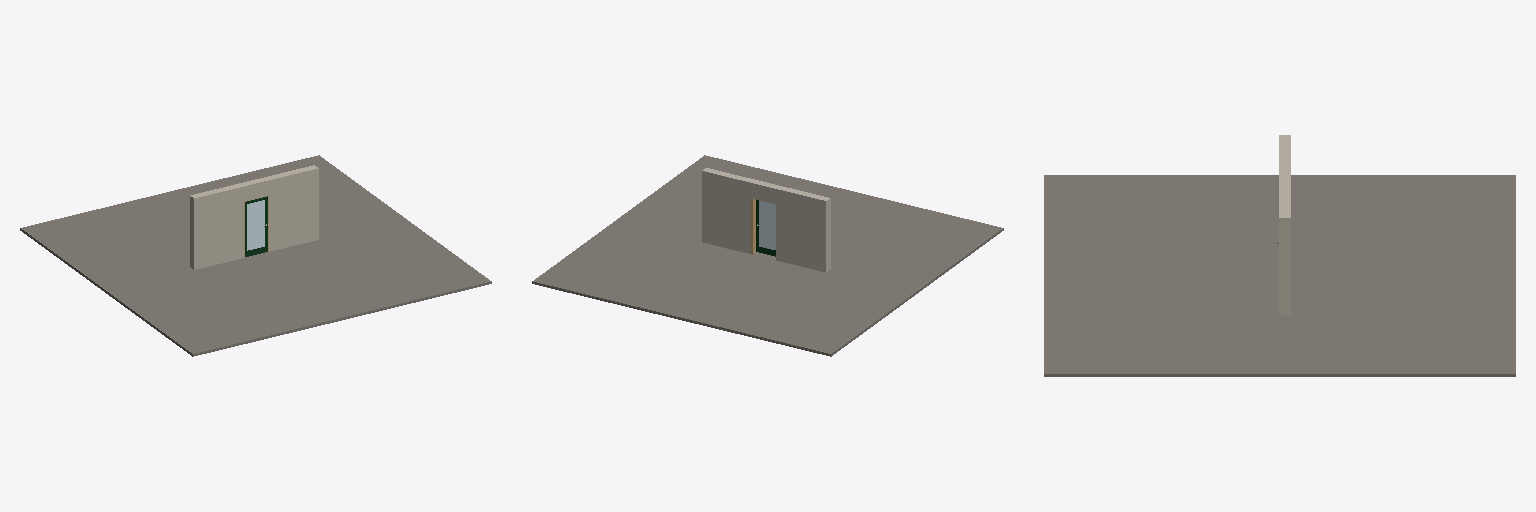
The robot description file, URDF, robot "db0233_swing_single_minimal":
<?xml version="1.0" ?>
<robot xmlns:doorbench="https://github.com/adamraudonis/DoorBench/schema/urdf-ext" name="db0233_swing_single_minimal">
  <link name="world_env">
    <visual name="floor_vis">
      <origin xyz="0 0 -0.05" rpy="0 0 0"/>
      <geometry>
        <box size="12 12 0.1"/>
      </geometry>
      <material name="mat_floor"/>
    </visual>
    <collision name="floor_col">
      <origin xyz="0 0 -0.05" rpy="0 0 0"/>
      <geometry>
        <box size="12 12 0.1"/>
      </geometry>
    </collision>
    <visual name="wall_left_vis">
      <origin xyz="-1.48975 0.121 1.3735" rpy="0 0 0"/>
      <geometry>
        <box size="2.0205 0.3 2.747"/>
      </geometry>
      <material name="mat_wall"/>
    </visual>
    <collision name="wall_left_col">
      <origin xyz="-1.48975 0.121 1.3735" rpy="0 0 0"/>
      <geometry>
        <box size="2.0205 0.3 2.747"/>
      </geometry>
    </collision>
    <visual name="wall_right_vis">
      <origin xyz="1.50475 0.121 1.3735" rpy="0 0 0"/>
      <geometry>
        <box size="1.9905 0.3 2.747"/>
      </geometry>
      <material name="mat_wall"/>
    </visual>
    <collision name="wall_right_col">
      <origin xyz="1.50475 0.121 1.3735" rpy="0 0 0"/>
      <geometry>
        <box size="1.9905 0.3 2.747"/>
      </geometry>
    </collision>
    <visual name="wall_header_vis">
      <origin xyz="0.015 0.121 2.4715" rpy="0 0 0"/>
      <geometry>
        <box size="0.989 0.3 0.551"/>
      </geometry>
      <material name="mat_wall"/>
    </visual>
    <collision name="wall_header_col">
      <origin xyz="0.015 0.121 2.4715" rpy="0 0 0"/>
      <geometry>
        <box size="0.989 0.3 0.551"/>
      </geometry>
    </collision>
    <visual name="jamb_hinge_vis">
      <origin xyz="-0.47 0.121 1.0735" rpy="0 0 0"/>
      <geometry>
        <box size="0.019 0.3 2.147"/>
      </geometry>
      <material name="mat_frame"/>
    </visual>
    <collision name="jamb_hinge_col">
      <origin xyz="-0.47 0.121 1.0735" rpy="0 0 0"/>
      <geometry>
        <box size="0.019 0.3 2.147"/>
      </geometry>
    </collision>
    <visual name="strike_1050_wall_n_vis">
      <origin xyz="0.485 0.139425 1.05" rpy="0 0 0"/>
      <geometry>
        <box size="0.049 0.26315 0.0334"/>
      </geometry>
      <material name="mat_frame"/>
    </visual>
    <collision name="strike_1050_wall_n_col">
      <origin xyz="0.485 0.139425 1.05" rpy="0 0 0"/>
      <geometry>
        <box size="0.049 0.26315 0.0334"/>
      </geometry>
    </collision>
    <visual name="strike_1050_wall_p_vis">
      <origin xyz="0.485 -0.01585 1.05" rpy="0 0 0"/>
      <geometry>
        <box size="0.049 0.016 0.0334"/>
      </geometry>
      <material name="mat_frame"/>
    </visual>
    <collision name="strike_1050_wall_p_col">
      <origin xyz="0.485 -0.01585 1.05" rpy="0 0 0"/>
      <geometry>
        <box size="0.049 0.016 0.0334"/>
      </geometry>
    </collision>
    <visual name="strike_1050_ramp_vis">
      <origin xyz="0.489636 -0.028673 1.05" rpy="0 0 0.428384"/>
      <geometry>
        <box size="0.049 0.03298 0.0334"/>
      </geometry>
      <material name="mat_frame"/>
    </visual>
    <collision name="strike_1050_ramp_col">
      <origin xyz="0.489636 -0.028673 1.05" rpy="0 0 0.428384"/>
      <geometry>
        <box size="0.049 0.03298 0.0334"/>
      </geometry>
    </collision>
    <visual name="strike_1050_back_vis">
      <origin xyz="0.49335 0 1.05" rpy="0 0 0"/>
      <geometry>
        <box size="0.0323 0.0157 0.0334"/>
      </geometry>
      <material name="mat_frame"/>
    </visual>
    <collision name="strike_1050_back_col">
      <origin xyz="0.49335 0 1.05" rpy="0 0 0"/>
      <geometry>
        <box size="0.0323 0.0157 0.0334"/>
      </geometry>
    </collision>
    <visual name="jamb_strike_0_vis">
      <origin xyz="0.485 0.121 0.51665" rpy="0 0 0"/>
      <geometry>
        <box size="0.049 0.3 1.0333"/>
      </geometry>
      <material name="mat_frame"/>
    </visual>
    <collision name="jamb_strike_0_col">
      <origin xyz="0.485 0.121 0.51665" rpy="0 0 0"/>
      <geometry>
        <box size="0.049 0.3 1.0333"/>
      </geometry>
    </collision>
    <visual name="jamb_strike_1_vis">
      <origin xyz="0.485 0.121 1.60685" rpy="0 0 0"/>
      <geometry>
        <box size="0.049 0.3 1.0803"/>
      </geometry>
      <material name="mat_frame"/>
    </visual>
    <collision name="jamb_strike_1_col">
      <origin xyz="0.485 0.121 1.60685" rpy="0 0 0"/>
      <geometry>
        <box size="0.049 0.3 1.0803"/>
      </geometry>
    </collision>
    <visual name="jamb_head_vis">
      <origin xyz="0.015 0.121 2.1565" rpy="0 0 0"/>
      <geometry>
        <box size="0.989 0.3 0.019"/>
      </geometry>
      <material name="mat_frame"/>
    </visual>
    <collision name="jamb_head_col">
      <origin xyz="0.015 0.121 2.1565" rpy="0 0 0"/>
      <geometry>
        <box size="0.989 0.3 0.019"/>
      </geometry>
    </collision>
    <visual name="head_stud_vis">
      <origin xyz="0.015 0.121 2.181" rpy="0 0 0"/>
      <geometry>
        <box size="0.989 0.3 0.03"/>
      </geometry>
      <material name="mat_wall"/>
    </visual>
    <collision name="head_stud_col">
      <origin xyz="0.015 0.121 2.181" rpy="0 0 0"/>
      <geometry>
        <box size="0.989 0.3 0.03"/>
      </geometry>
    </collision>
    <visual name="stop_hinge_vis">
      <origin xyz="-0.455 0.0385 1.0735" rpy="0 0 0"/>
      <geometry>
        <box size="0.011 0.032 2.147"/>
      </geometry>
      <material name="mat_frame"/>
    </visual>
    <collision name="stop_hinge_col">
      <origin xyz="-0.455 0.0385 1.0735" rpy="0 0 0"/>
      <geometry>
        <box size="0.011 0.032 2.147"/>
      </geometry>
    </collision>
    <visual name="stop_strike_vis">
      <origin xyz="0.455 0.0385 1.0735" rpy="0 0 0"/>
      <geometry>
        <box size="0.011 0.032 2.147"/>
      </geometry>
      <material name="mat_frame"/>
    </visual>
    <collision name="stop_strike_col">
      <origin xyz="0.455 0.0385 1.0735" rpy="0 0 0"/>
      <geometry>
        <box size="0.011 0.032 2.147"/>
      </geometry>
    </collision>
    <visual name="stop_head_vis">
      <origin xyz="0 0.0385 2.1415" rpy="0 0 0"/>
      <geometry>
        <box size="0.921 0.032 0.011"/>
      </geometry>
      <material name="mat_frame"/>
    </visual>
    <collision name="stop_head_col">
      <origin xyz="0 0.0385 2.1415" rpy="0 0 0"/>
      <geometry>
        <box size="0.921 0.032 0.011"/>
      </geometry>
    </collision>
  </link>
  <link name="leaf">
    <inertial>
      <origin xyz="0.457 0.029 1.07642" rpy="0 0 0"/>
      <mass value="30.552097"/>
      <inertia ixx="11.577780386" ixy="0" ixz="0" iyy="13.694314073" iyz="0" izz="2.126396616"/>
    </inertial>
    <visual name="leaf_slab_vis">
      <origin xyz="0.457 0.029 1.076" rpy="0 0 0"/>
      <geometry>
        <box size="0.914 0.044 2.134"/>
      </geometry>
      <material name="mat_leaf"/>
    </visual>
    <collision name="leaf_slab_col">
      <origin xyz="0.457 0.029 1.076" rpy="0 0 0"/>
      <geometry>
        <box size="0.914 0.044 2.134"/>
      </geometry>
    </collision>
    <visual name="leaf_glass_0_vis">
      <origin xyz="0.457 0.029 1.14002" rpy="0 0 0"/>
      <geometry>
        <box size="0.71292 0.0456 1.79256"/>
      </geometry>
      <material name="mat_glass"/>
    </visual>
  </link>
  <link name="leaf_handle">
    <inertial>
      <origin xyz="-0.025007 -0.057273 0" rpy="0 0 0"/>
      <mass value="0.41"/>
      <inertia ixx="0.000274641" ixy="-0.000228434" ixz="0" iyy="0.00059942" iyz="0" izz="0.000791484"/>
    </inertial>
    <visual name="leaf_handle_lever_n_vis">
      <origin xyz="0 -0.022 0" rpy="1.570796 0 0"/>
      <geometry>
        <mesh filename="../../hardware/lever_a61139b160.obj"/>
      </geometry>
      <material name="mat_op_nickel_satin"/>
    </visual>
    <collision name="leaf_handle_lever_col_n_col">
      <origin xyz="-0.056 -0.077 0" rpy="0 -1.570796 0"/>
      <geometry>
        <cylinder radius="0.008" length="0.096"/>
      </geometry>
    </collision>
    <collision name="leaf_handle_hub_col_n_col">
      <origin xyz="0 -0.052 0" rpy="-1.570796 0 0"/>
      <geometry>
        <cylinder radius="0.012" length="0.044"/>
      </geometry>
    </collision>
  </link>
  <link name="leaf_handle_out">
    <inertial>
      <origin xyz="-0.025007 0.057273 0" rpy="0 0 0"/>
      <mass value="0.41"/>
      <inertia ixx="0.000274641" ixy="0.000228434" ixz="0" iyy="0.00059942" iyz="0" izz="0.000791484"/>
    </inertial>
    <visual name="leaf_handle_out_lever_p_vis">
      <origin xyz="0 0.022 0" rpy="-1.570796 0 0"/>
      <geometry>
        <mesh filename="../../hardware/lever_a61139b160.obj"/>
      </geometry>
      <material name="mat_op_nickel_satin"/>
    </visual>
    <collision name="leaf_handle_out_lever_col_p_col">
      <origin xyz="-0.056 0.077 0" rpy="0 -1.570796 0"/>
      <geometry>
        <cylinder radius="0.008" length="0.096"/>
      </geometry>
    </collision>
    <collision name="leaf_handle_out_hub_col_p_col">
      <origin xyz="0 0.052 0" rpy="-1.570796 0 0"/>
      <geometry>
        <cylinder radius="0.012" length="0.044"/>
      </geometry>
    </collision>
  </link>
  <link name="leaf_latch_bolt">
    <inertial>
      <origin xyz="-0.00865 0 0" rpy="0 0 0"/>
      <mass value="0.041419"/>
      <inertia ixx="0.000000798" ixy="0" ixz="0" iyy="0.000005598" iyz="0" izz="0.000005598"/>
    </inertial>
    <visual name="leaf_latch_bolt_capsule_vis">
      <origin xyz="-0.00865 0 0" rpy="0 1.570796 0"/>
      <geometry>
        <cylinder radius="0.00635" length="0.03"/>
      </geometry>
      <material name="mat_bolt"/>
    </visual>
    <collision name="leaf_latch_bolt_capsule_col">
      <origin xyz="-0.00865 0 0" rpy="0 1.570796 0"/>
      <geometry>
        <cylinder radius="0.00635" length="0.03"/>
      </geometry>
    </collision>
  </link>
  <joint name="leaf_hinge" type="revolute">
    <origin xyz="-0.4575 -0.029 0" rpy="0 0 0"/>
    <parent link="world_env"/>
    <child link="leaf"/>
    <axis xyz="0 0 -1"/>
    <limit lower="0" upper="1.570796" effort="2000" velocity="10"/>
    <dynamics damping="0.318966" friction="1.73044"/>
    <doorbench:closer damping_closing="0" damping_opening="0" backcheck_angle="0" backcheck_damping="0"/>
  </joint>
  <joint name="leaf_handle_hinge" type="revolute">
    <origin xyz="0.844 0.029 1.05" rpy="0 0 0"/>
    <parent link="leaf"/>
    <child link="leaf_handle"/>
    <axis xyz="0 -1 0"/>
    <limit lower="0" upper="0.87" effort="2000" velocity="10"/>
    <dynamics damping="0.208392" friction="0.052"/>
    <doorbench:spring stiffness="1" springref="-0.35" note="tau = -stiffness*(q - springref); not native URDF"/>
  </joint>
  <joint name="leaf_handle_out_hinge" type="revolute">
    <origin xyz="0.844 0.029 1.05" rpy="0 0 0"/>
    <parent link="leaf"/>
    <child link="leaf_handle_out"/>
    <axis xyz="0 -1 0"/>
    <limit lower="0" upper="0.05" effort="2000" velocity="10"/>
    <dynamics damping="0.208382" friction="0.052"/>
    <doorbench:spring stiffness="1" springref="-0.35" note="tau = -stiffness*(q - springref); not native URDF"/>
    <doorbench:note text="keypad clutch: blocked to the lock's free play until the code is entered"/>
  </joint>
  <joint name="leaf_latch_bolt_slide" type="prismatic">
    <origin xyz="0.914 0.029 1.05" rpy="0 0 0"/>
    <parent link="leaf"/>
    <child link="leaf_latch_bolt"/>
    <axis xyz="-1 0 0"/>
    <limit lower="0" upper="0.0127" effort="5000" velocity="10"/>
    <dynamics damping="2" friction="0.3"/>
    <doorbench:spring stiffness="300" springref="-0.008333" note="tau = -stiffness*(q - springref); not native URDF"/>
    <mimic joint="leaf_handle_hinge" multiplier="0.015679" offset="0"/>
    <doorbench:coupling one_sided="true" note="MJCF uses a one-sided tendon (bolt may retract further, e.g. riding over the strike lip); mimic is bilateral"/>
  </joint>
  <material name="mat_bolt">
    <color rgba="0.85 0.66 0.3 1"/>
  </material>
  <material name="mat_floor">
    <color rgba="0.55 0.53 0.5 1"/>
  </material>
  <material name="mat_frame">
    <color rgba="0.82 0.7 0.5 1"/>
  </material>
  <material name="mat_glass">
    <color rgba="0.85 0.92 0.95 0.25"/>
  </material>
  <material name="mat_leaf">
    <color rgba="0.1 0.28 0.16 1"/>
  </material>
  <material name="mat_op_nickel_satin">
    <color rgba="0.72 0.7 0.66 1"/>
  </material>
  <material name="mat_wall">
    <color rgba="0.78 0.76 0.7 1"/>
  </material>
</robot>

--- Facts derived from the render (not from the file) ---
The picture shows the robot from 3 angles, left to right: view 1: azimuth 30°, elevation 25°; view 2: azimuth 150°, elevation 25°; view 3: azimuth 270°, elevation 25°; orthographic projection.
Robot: db0233_swing_single_minimal — 5 links, 4 joints (3 revolute, 1 prismatic); root link world_env; default pose: all joints at 0.
Visible links, largest first — view 1: world_env, leaf; view 2: world_env, leaf; view 3: world_env.
Boxes of the visible links, x1,y1,x2,y2 form: world_env: [20, 155, 491, 356]; leaf: [245, 196, 267, 256]; world_env: [532, 155, 1003, 356]; leaf: [756, 200, 775, 256]; world_env: [1044, 135, 1515, 376].
Size in the robot's own frame: 12 by 12 by 2.85 metres.
2 mesh visuals loaded from 1 distinct referenced files (1 OBJ).
